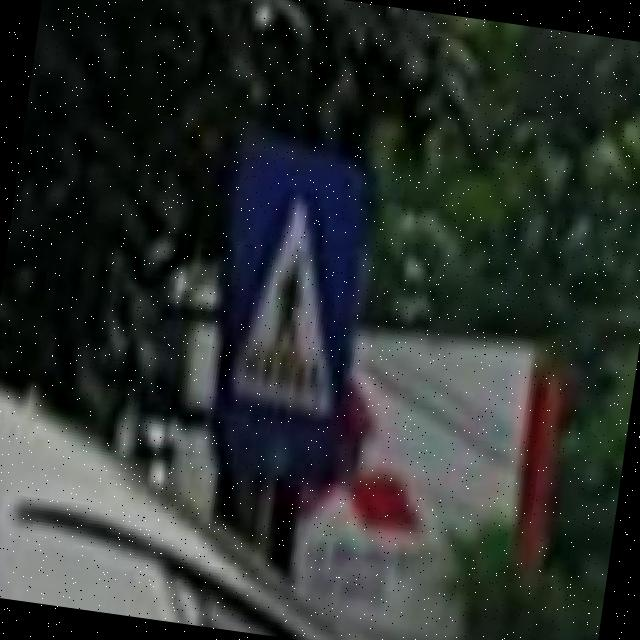Przejscie dla pieszych: (203, 152, 383, 454)
